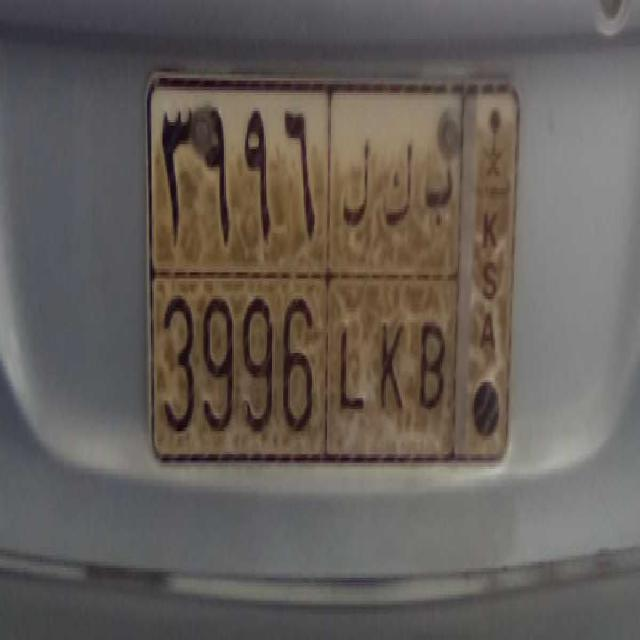license_plate: (151, 267, 455, 458)
